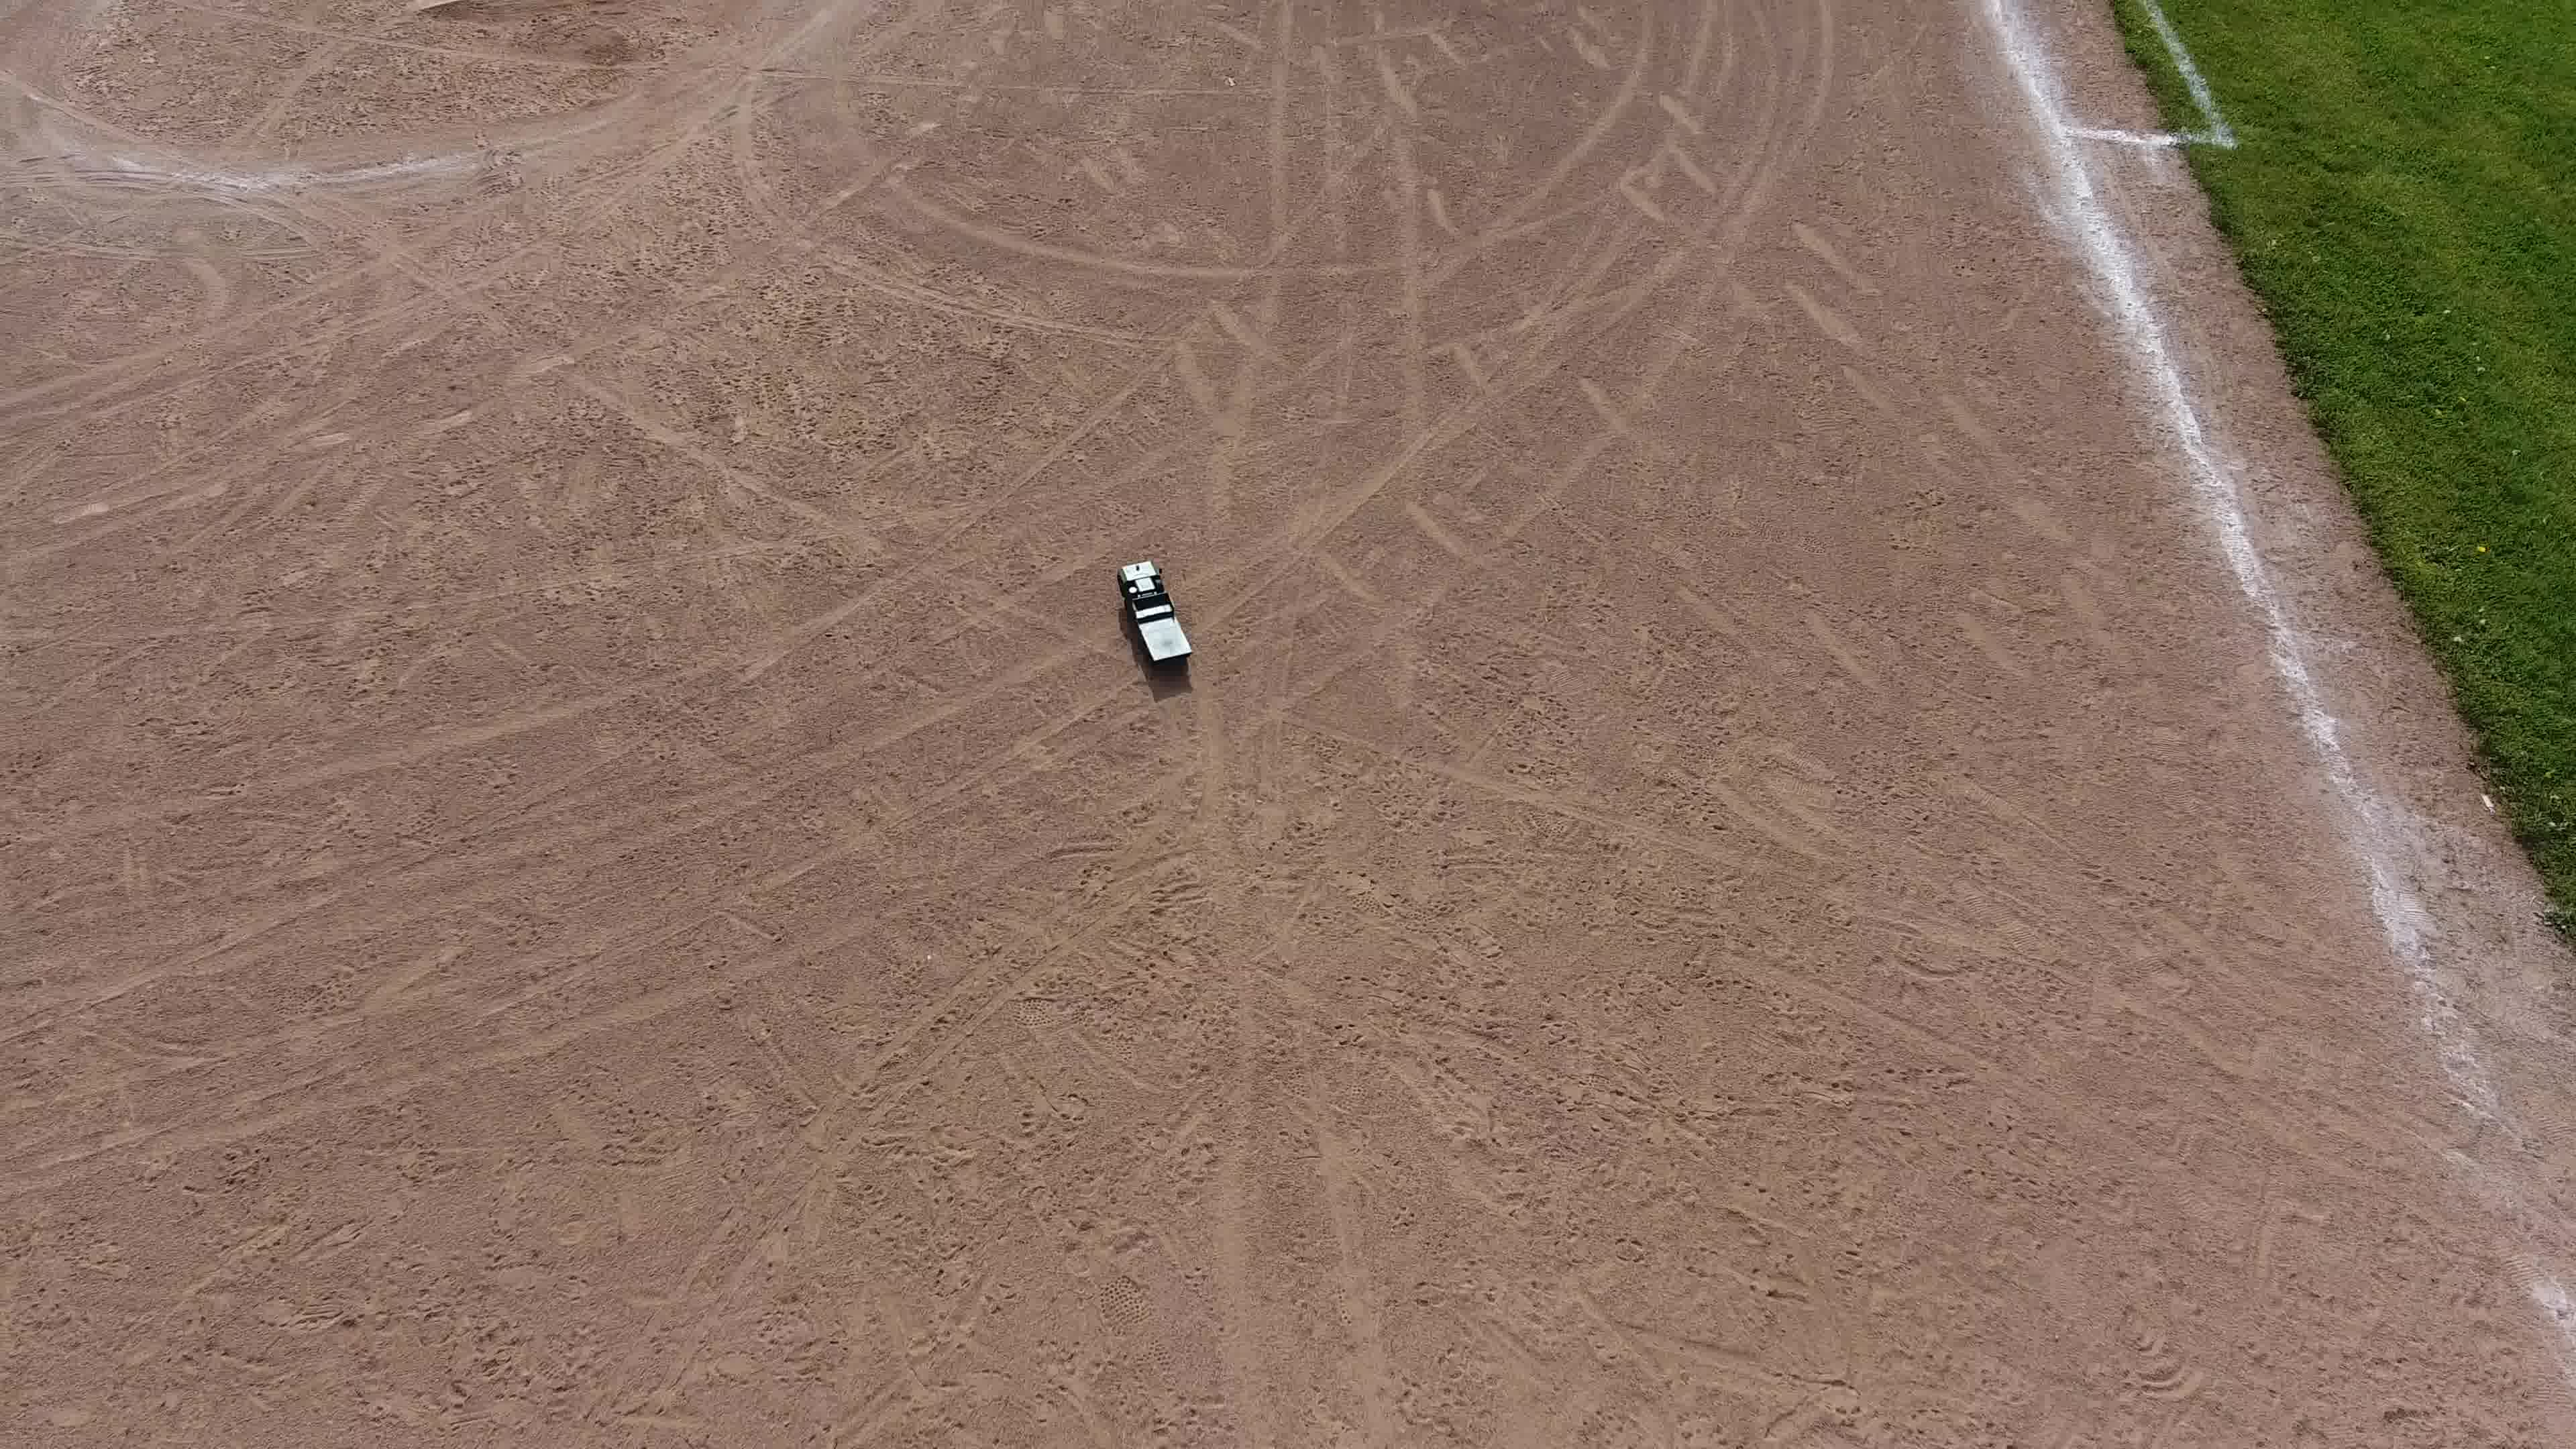transporter9: (1113, 557, 1198, 674)
